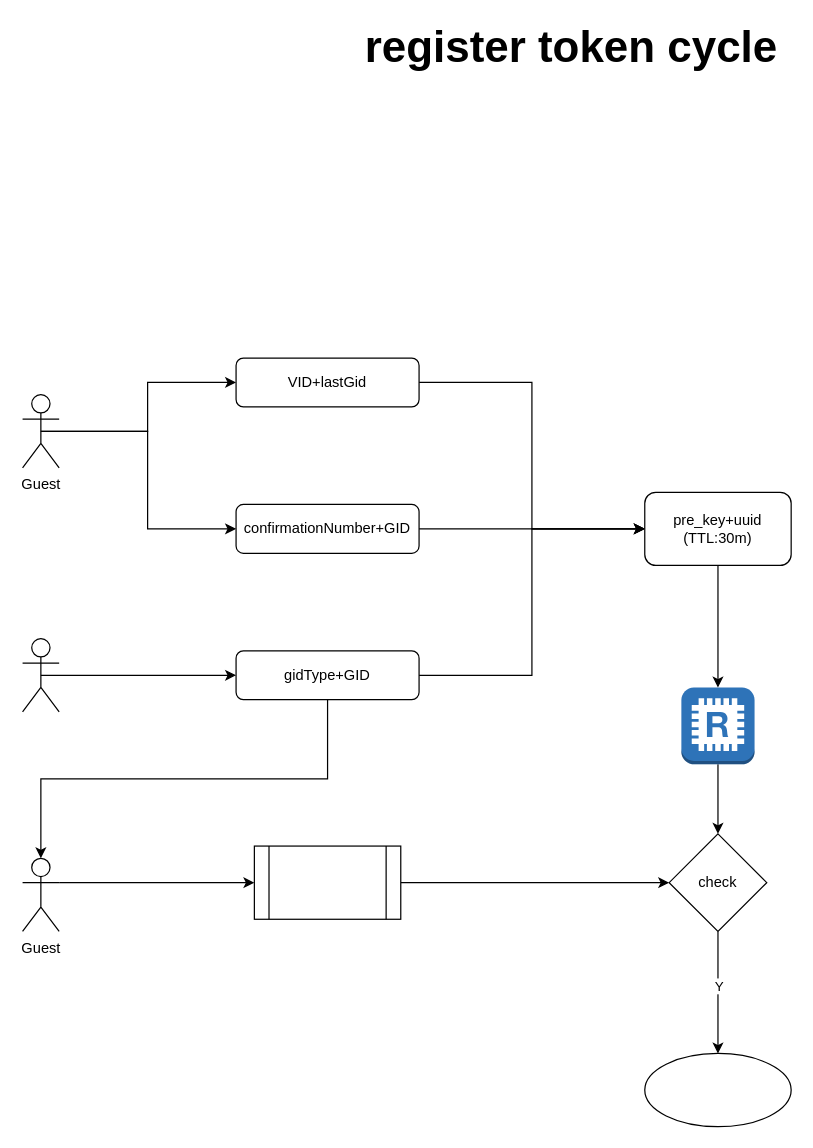
Some shapes in this 813 by 1148 pixel diagram are drawn without their labels. Each missing label, with the centre of its shape:
"Cast" goes at point 40,674.
"End" goes at point 717,1089.
"intl register" goes at point 327,882.
